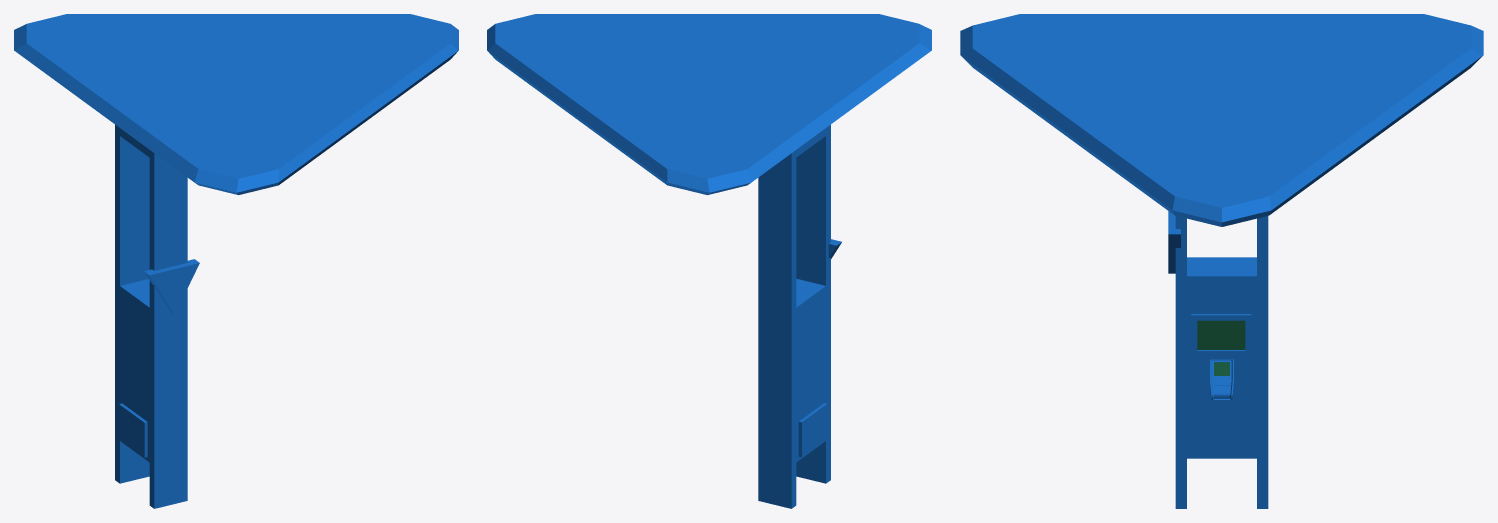
File: T_street_terminal.fbx
The picture shows the model from 3 angles, left to right: view 1: azimuth 30°, elevation 25°; view 2: azimuth 150°, elevation 25°; view 3: azimuth 270°, elevation 25°; orthographic projection. The views are drawn at different scales.
Parts seen in each view (by area): view 1: street_terminal; view 2: street_terminal; view 3: street_terminal.
Boxes of the visible parts, box(x1,y1,x2,y2) form: street_terminal: box(14, 14, 458, 508); street_terminal: box(487, 14, 931, 508); street_terminal: box(960, 14, 1483, 508).
Size of the model in its own units: 289 by 306 by 313.
